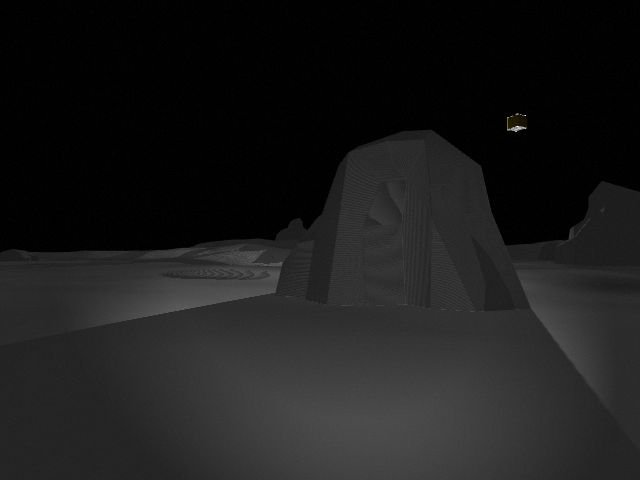cubesat: (503, 110, 531, 136)
